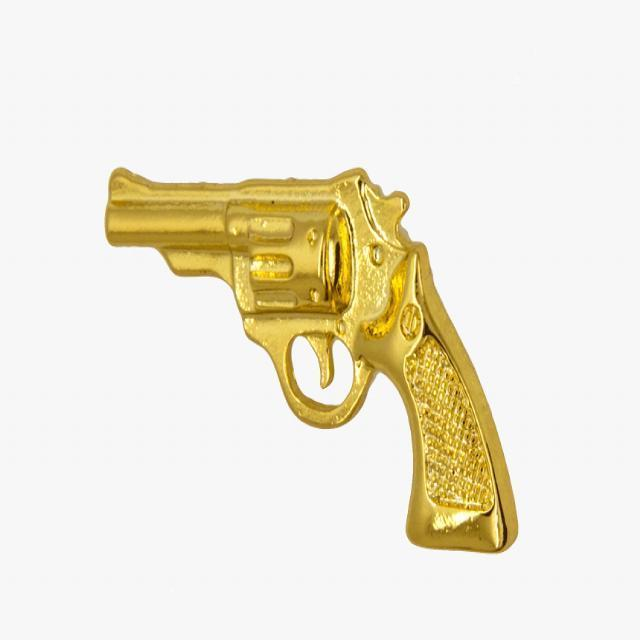gun: (106, 163, 518, 553)
